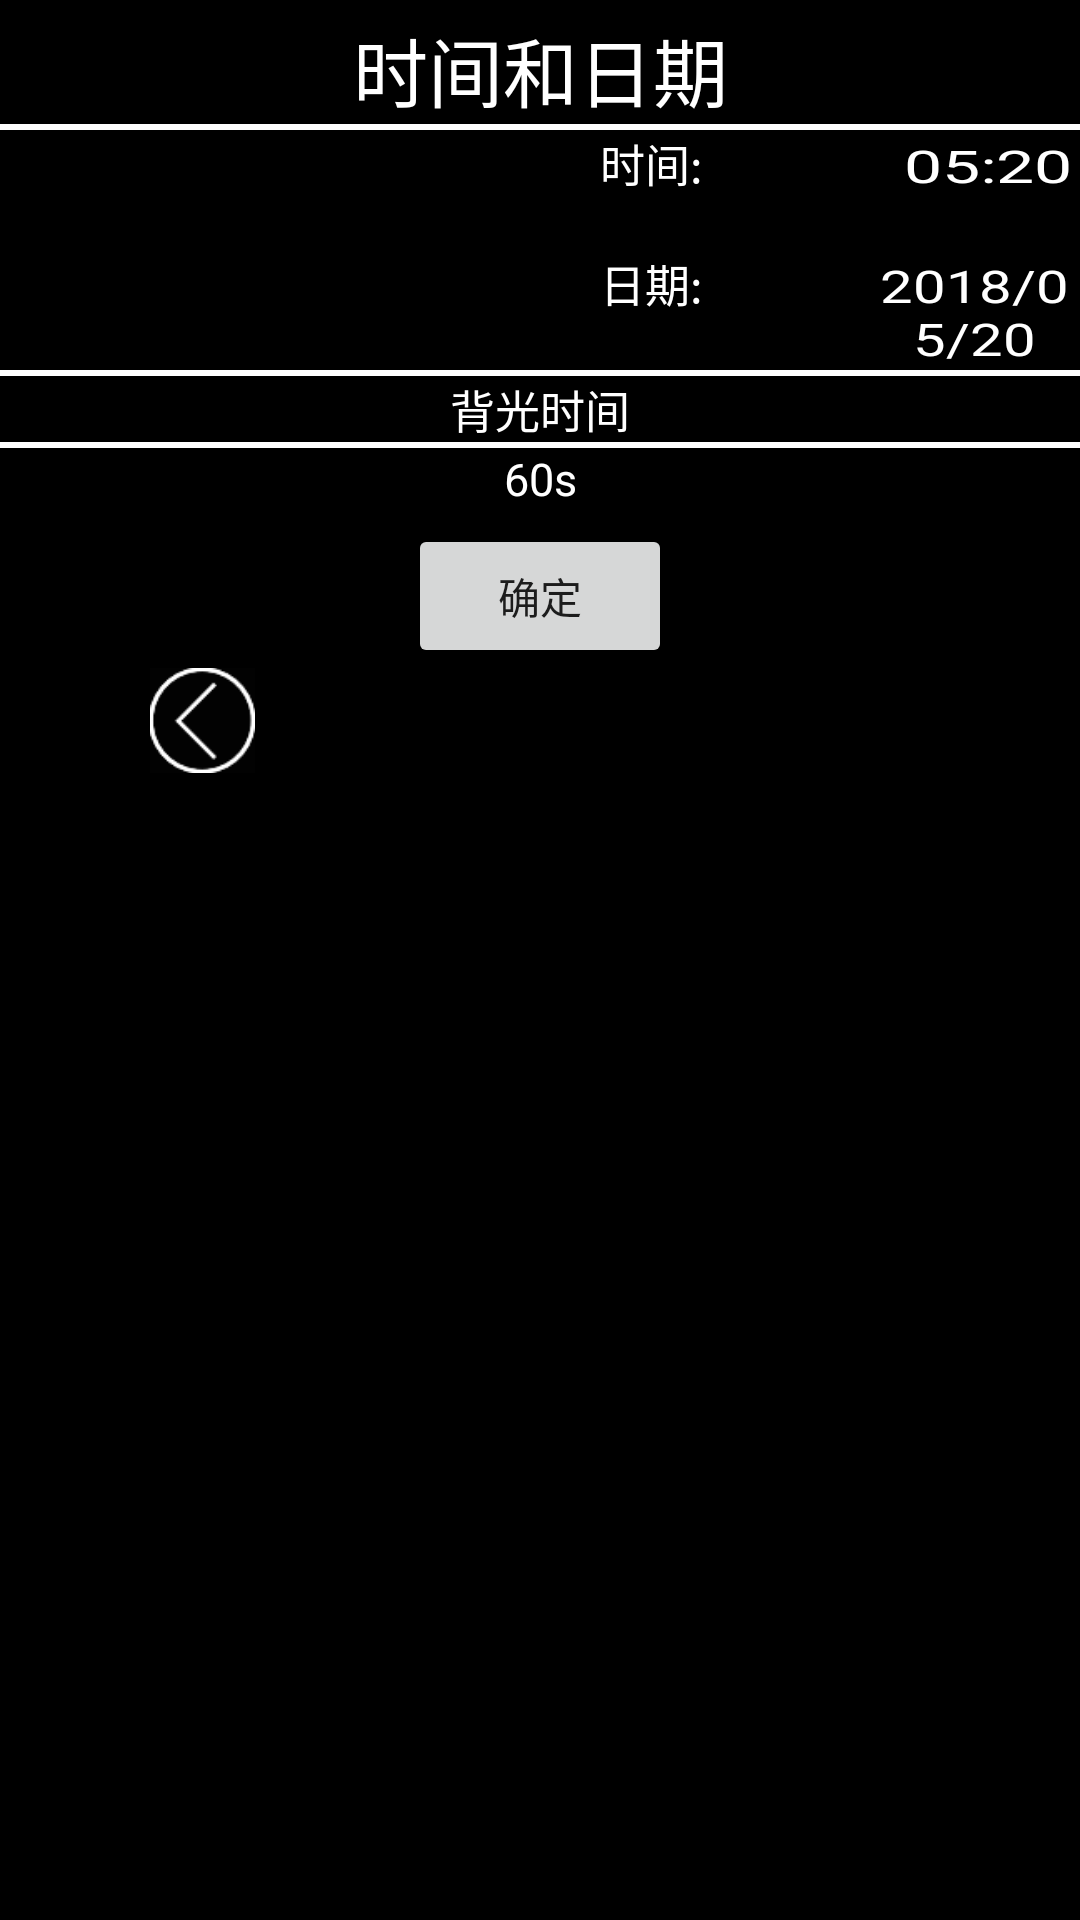

Named icons in this screenshot (1080 x 1920) and their bounding boxes, (left=x1, top=y1, right=x2, bottom=y2):
backward: (left=150, top=668, right=255, bottom=773)
